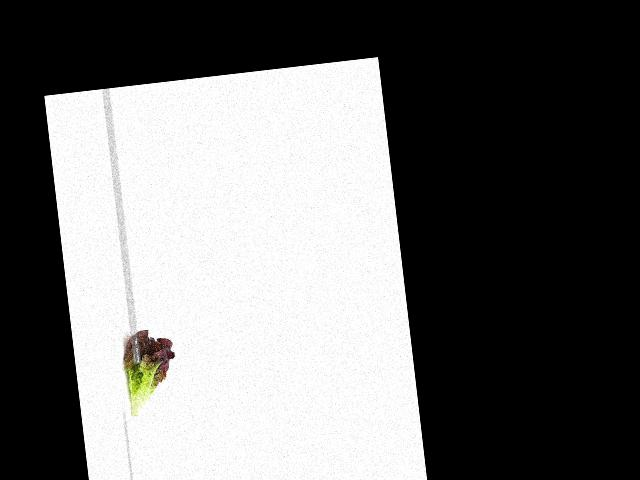lettuce: (116, 325, 182, 421)
